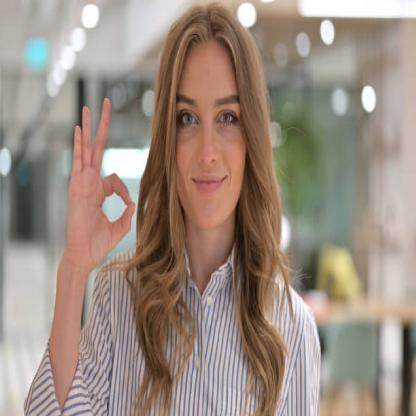ok: (64, 94, 136, 268)
